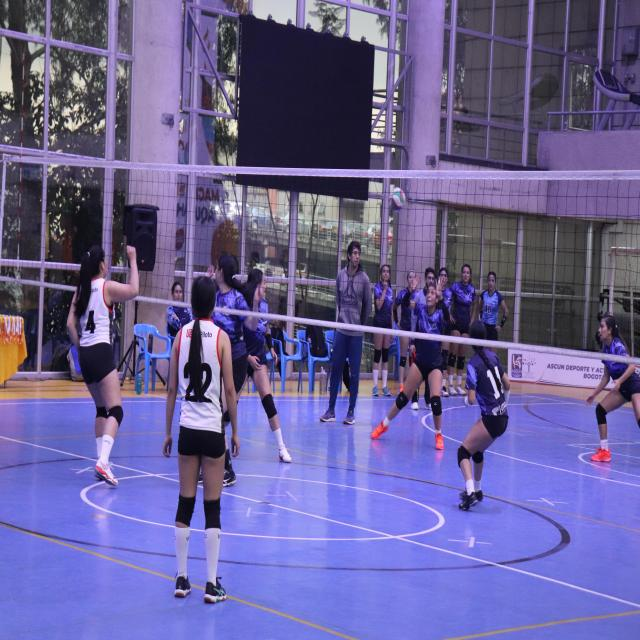volleyball: (390, 187, 406, 213)
